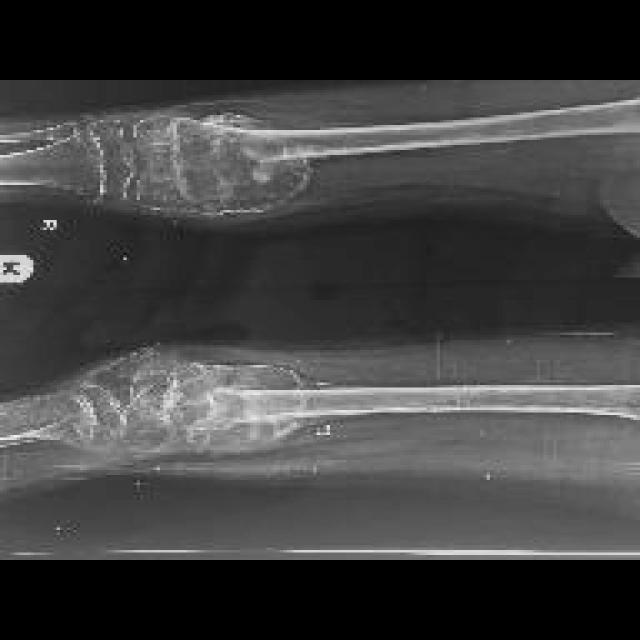bone-cancer: (162, 362, 329, 450), (176, 113, 316, 213)
